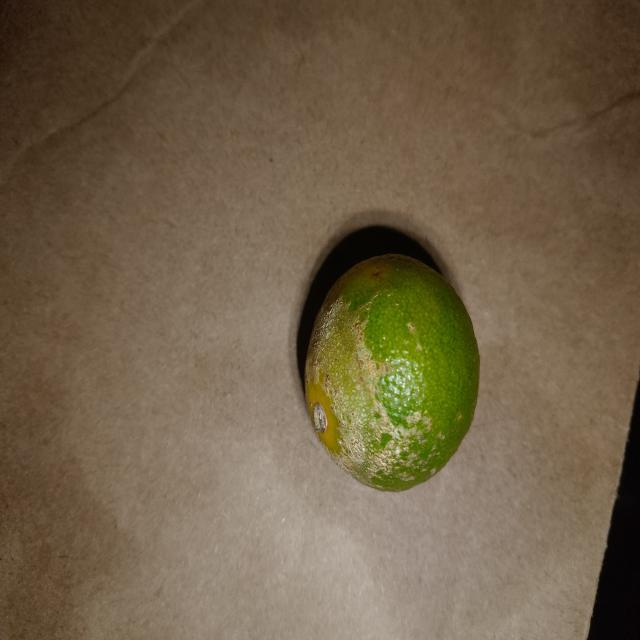thrips: (309, 260, 481, 490)
